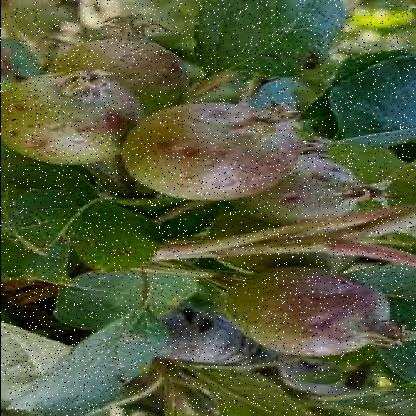damaged_apple: (126, 98, 304, 200), (223, 263, 384, 360), (7, 68, 144, 164), (233, 150, 369, 229)
